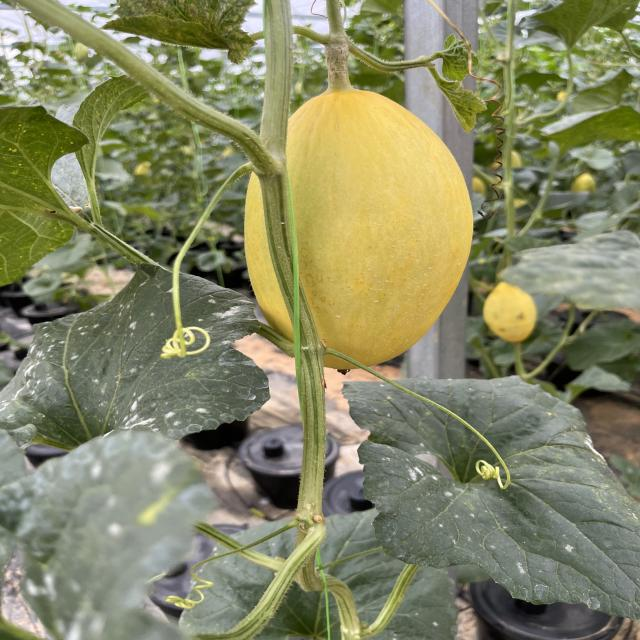CMV: (102, 1, 262, 66)
SLCV: (428, 30, 490, 136)
downy mildew: (331, 378, 639, 610), (0, 99, 106, 292)
powdery mildew: (0, 258, 274, 482)
